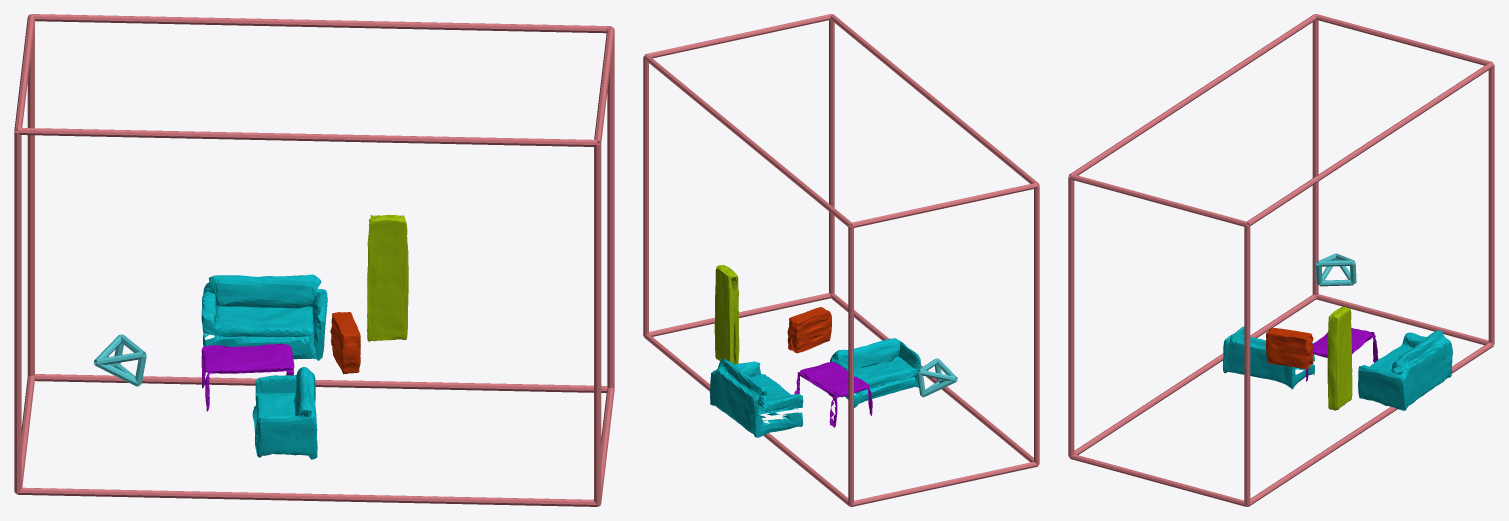
3 renders of one model, left to right at view 1: azimuth 30°, elevation 25°; view 2: azimuth 150°, elevation 25°; view 3: azimuth 270°, elevation 25°, orthographic. The views are drawn at different scales.
Visible parts, largest first — view 1: world; view 2: world; view 3: world.
Boxes of the visible parts, x1,y1,x2,y2 form: world: [14, 14, 614, 506]; world: [643, 14, 1039, 506]; world: [1068, 14, 1494, 506].
Size of the model in its own units: 8.4 by 5.3 by 7.19.
